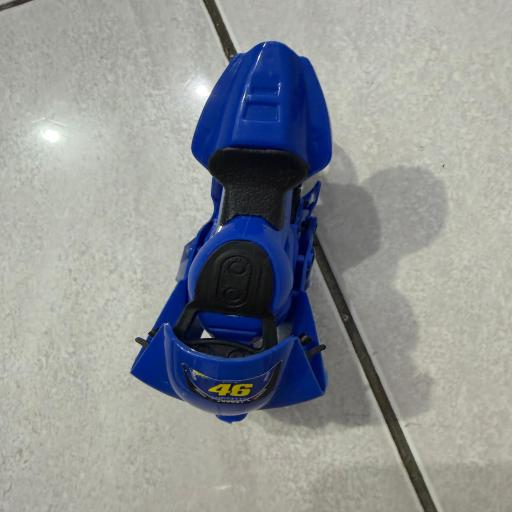motor-biru: (118, 37, 370, 432)
